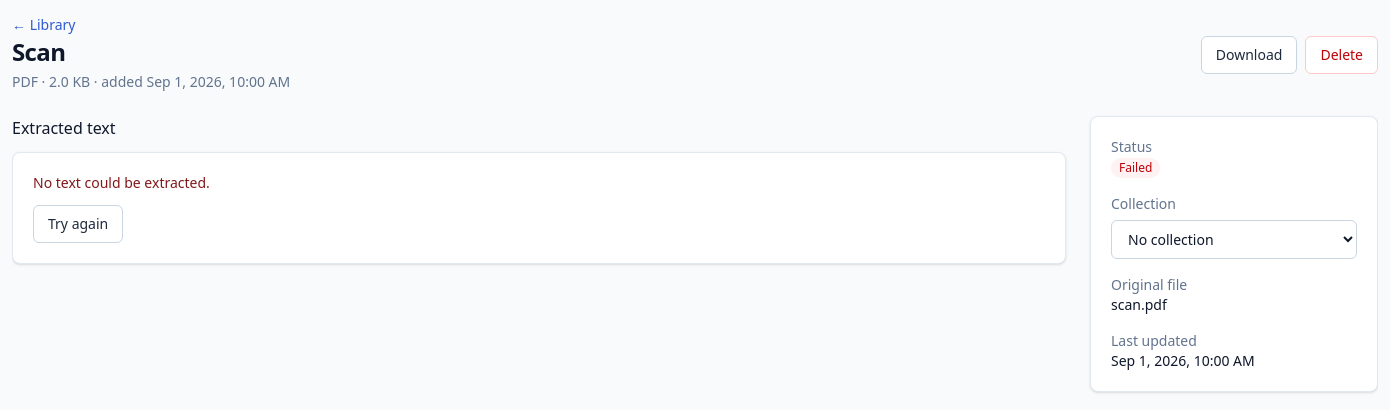
Test: DocumentDetail › explains a failure and can queue the document again
The width and height of the screenshot is (1390, 410).
expect the message reads "No text could be extracted.": met, box [33,173,210,192]
What coordinates should you click on to do the following:
click the button "Try again"
I would click on:
 (78, 224)
Its box is [33,205,123,243].
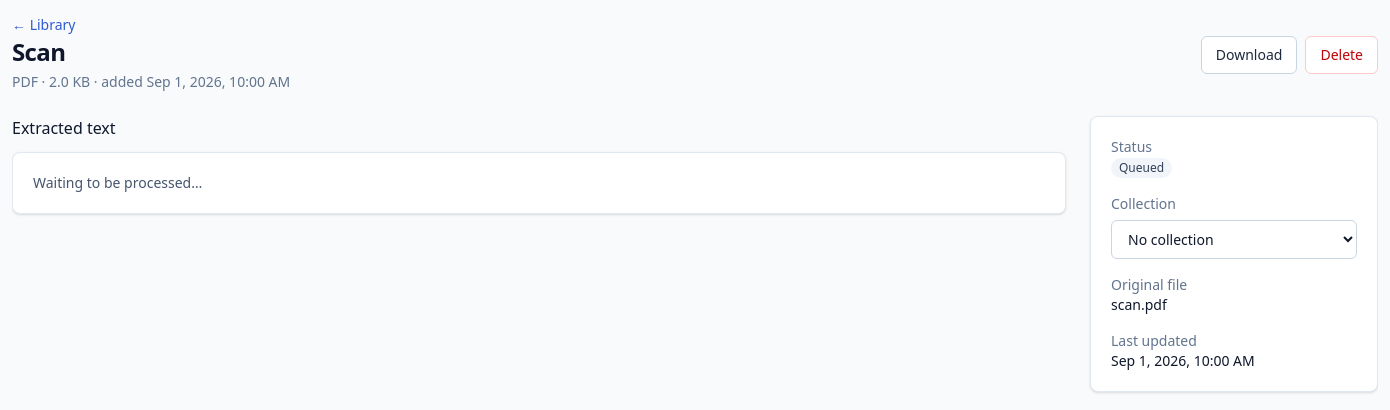
expect the text "Waiting to be processed…" is shown: met, box [33,173,202,192]
